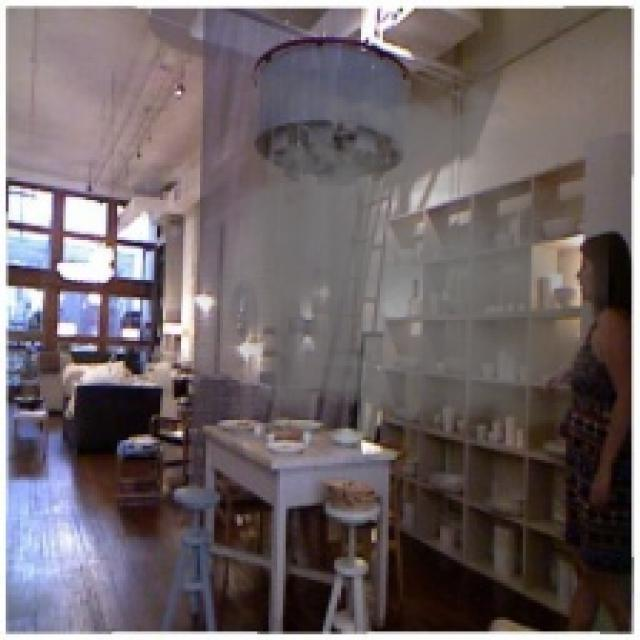Smoke: (182, 74, 608, 429)
